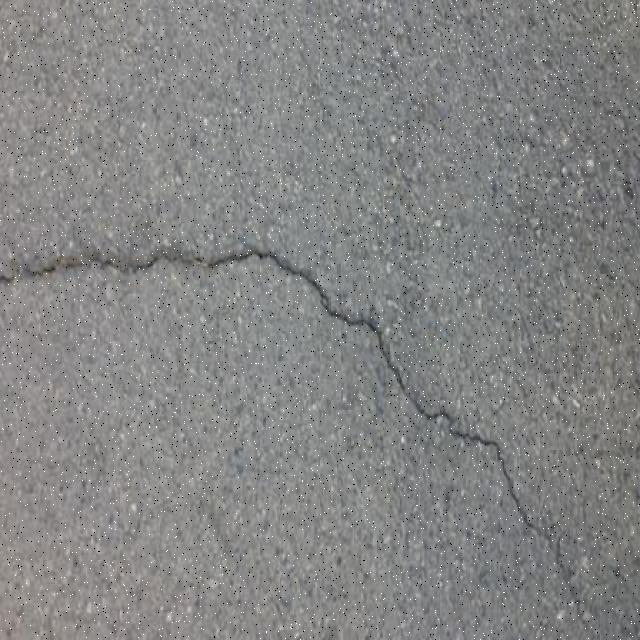minor crack: (376, 327, 496, 439)
moderate crack: (436, 416, 548, 534), (440, 482, 461, 511)
severe crack: (41, 241, 547, 524), (252, 248, 388, 335), (8, 238, 271, 282), (423, 405, 455, 426), (128, 253, 159, 269)
